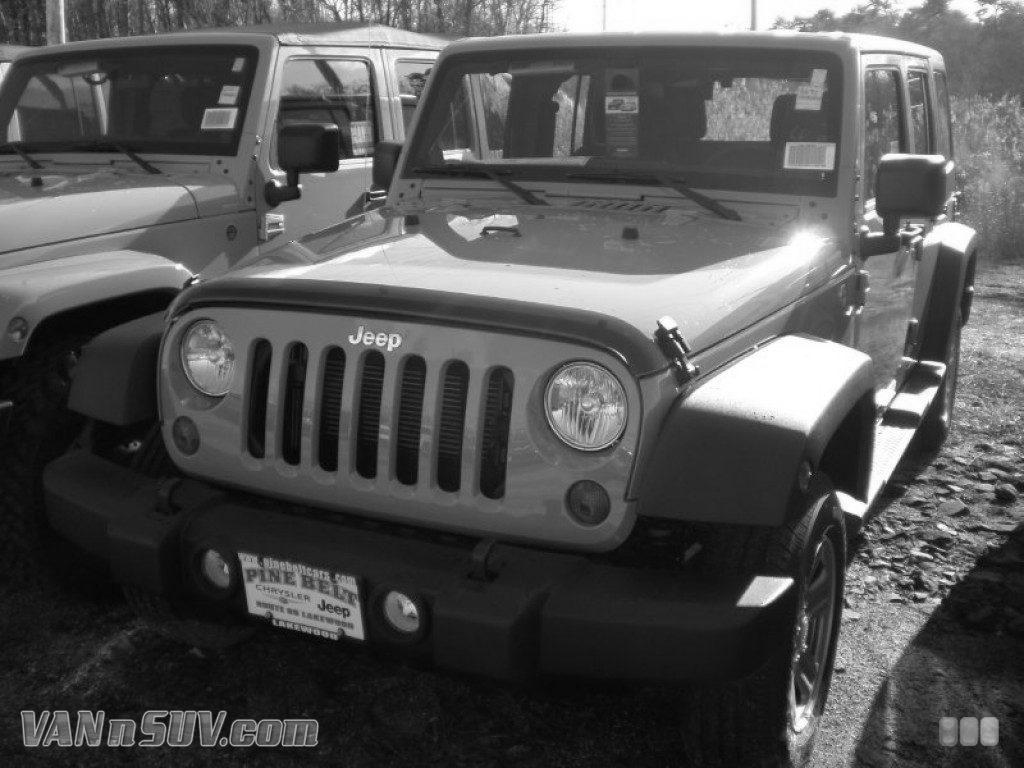car: (61, 30, 969, 767)
